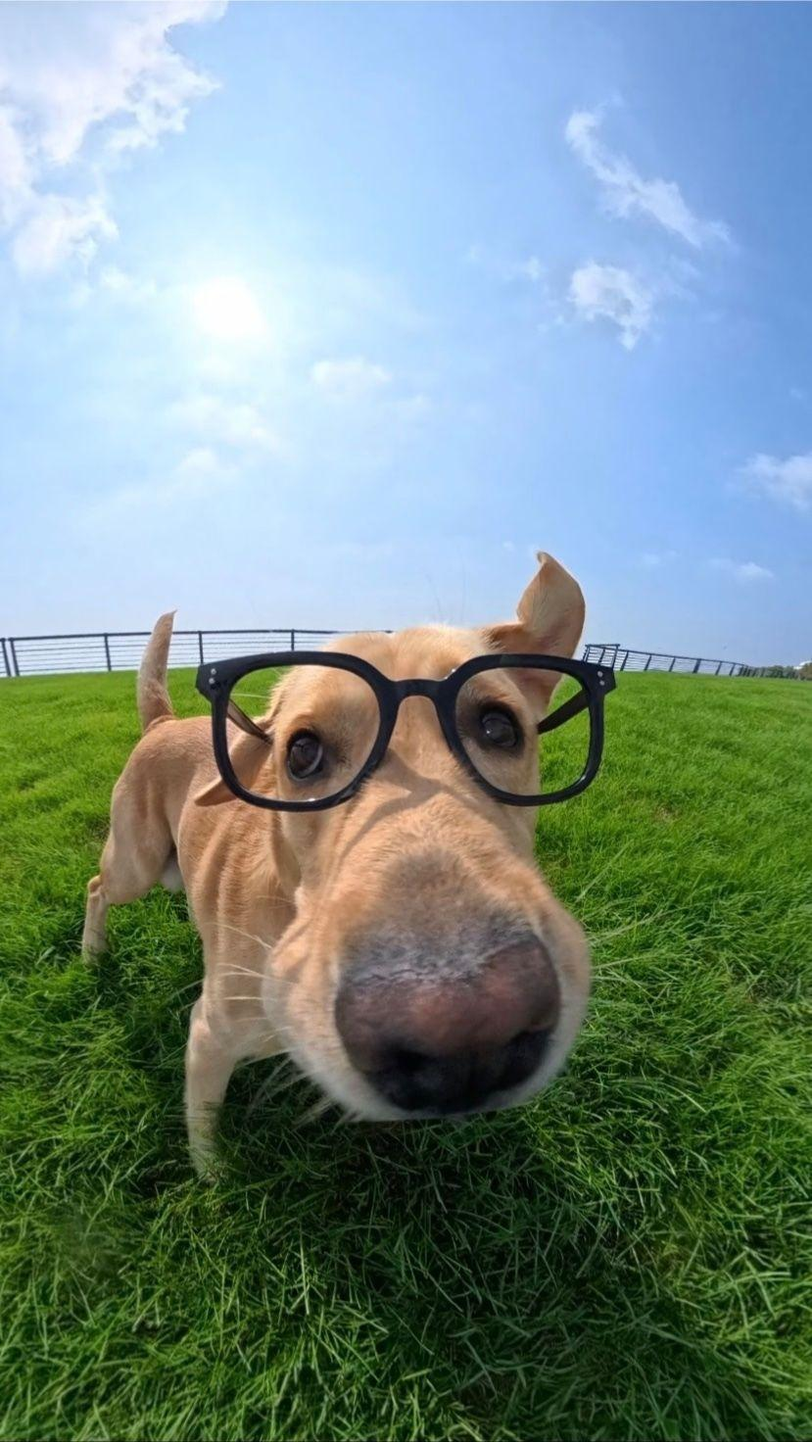adult_dog: (79, 551, 594, 1191)
